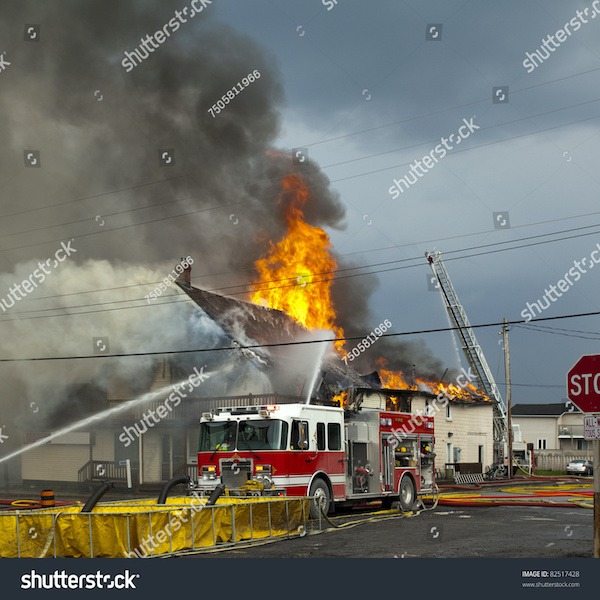fire: (247, 195, 339, 330), (380, 357, 417, 393)
